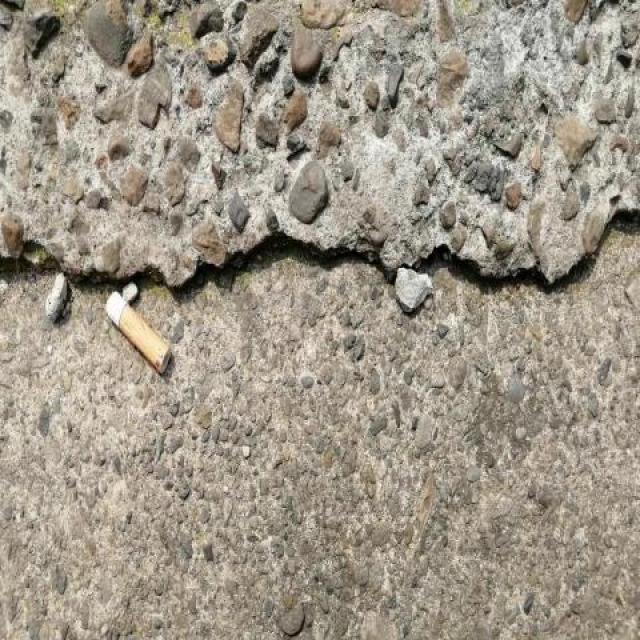non-organic waste: (101, 286, 175, 378)
